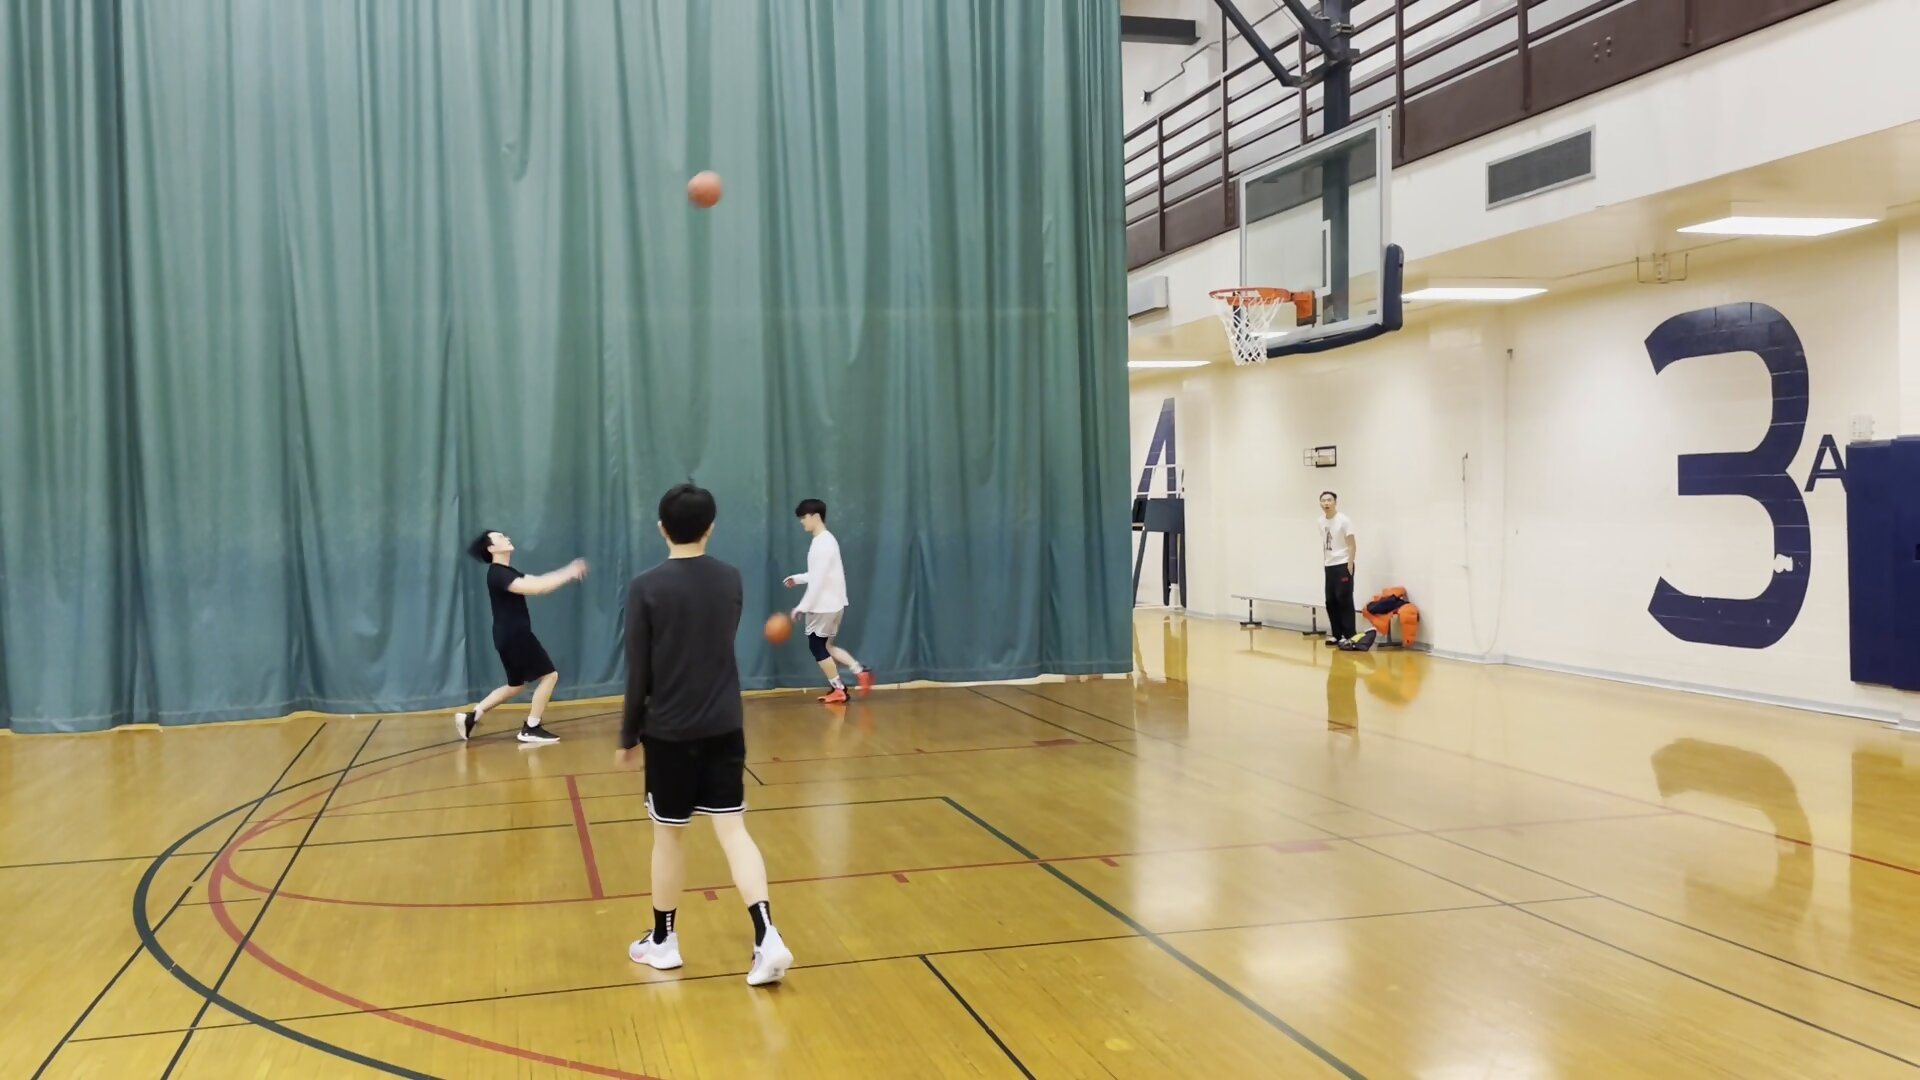ball: (683, 169, 727, 212), (758, 610, 796, 644)
net: (1222, 331, 1281, 373)
player: (615, 482, 798, 989), (451, 524, 584, 753), (781, 500, 876, 711), (1311, 491, 1368, 650)
rim: (1206, 284, 1297, 311)
